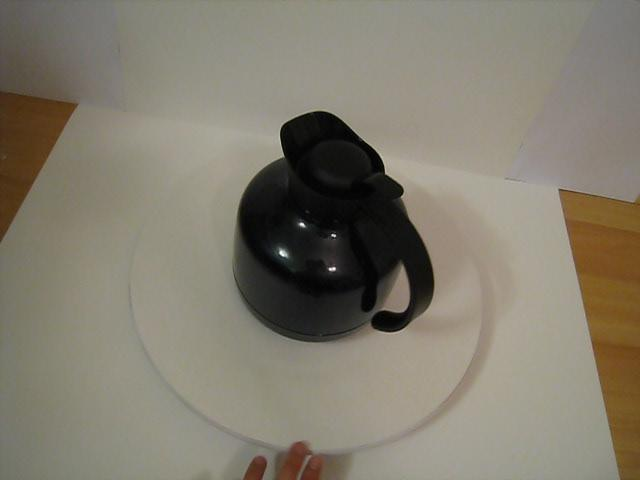pitcher: (219, 106, 439, 371)
